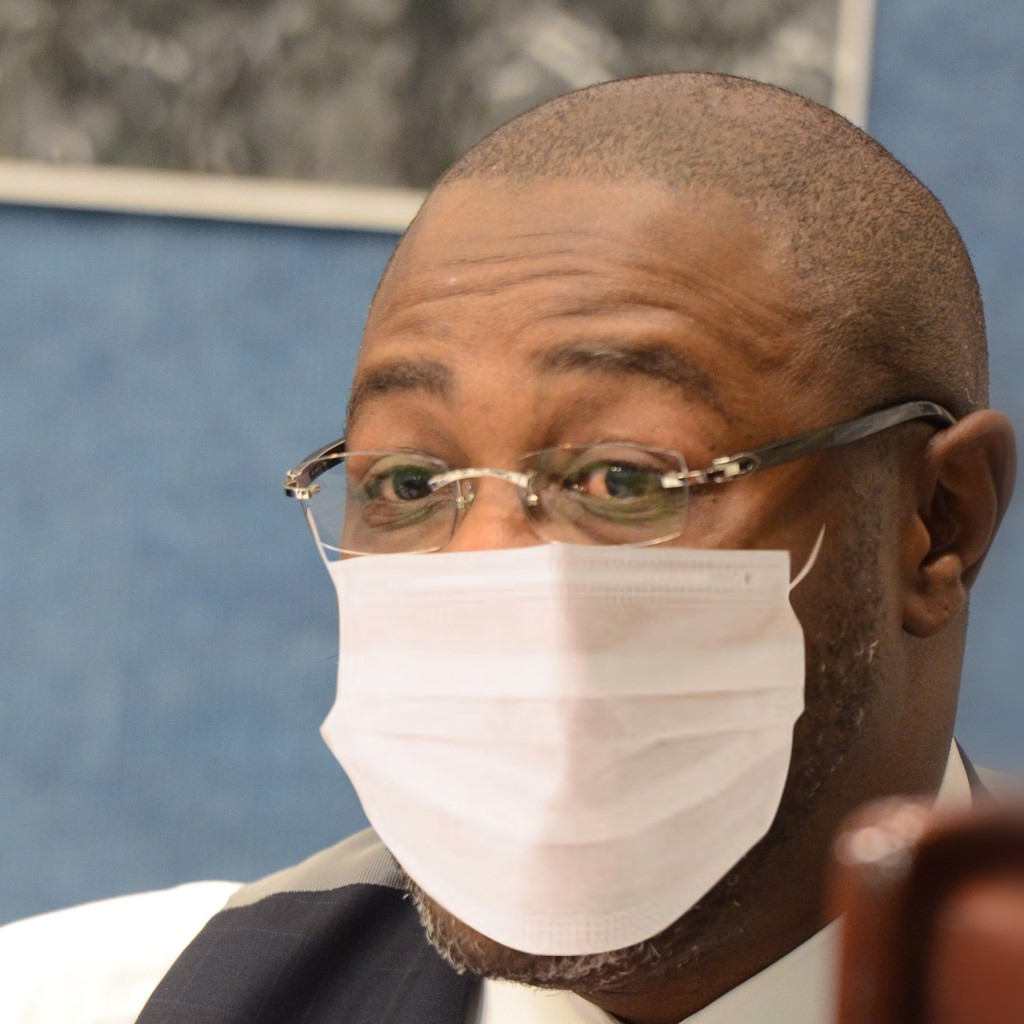con_mascara: (330, 108, 964, 965)
